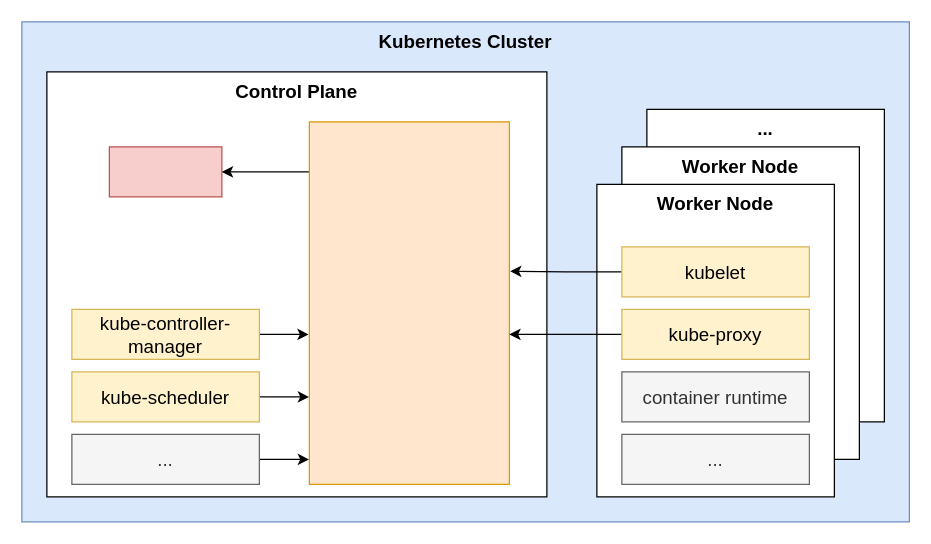
This 931x544 diagram has some shape labels left out. Here are the shapes that lost their labels. From the top down, the centre of each, then its label:
[165,171]: etcd
[408,302]: kube-apiserver
